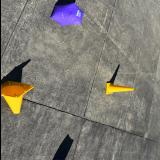cone: (0, 80, 34, 114), (105, 82, 133, 94)
cube: (49, 2, 84, 26), (55, 159, 64, 160)
